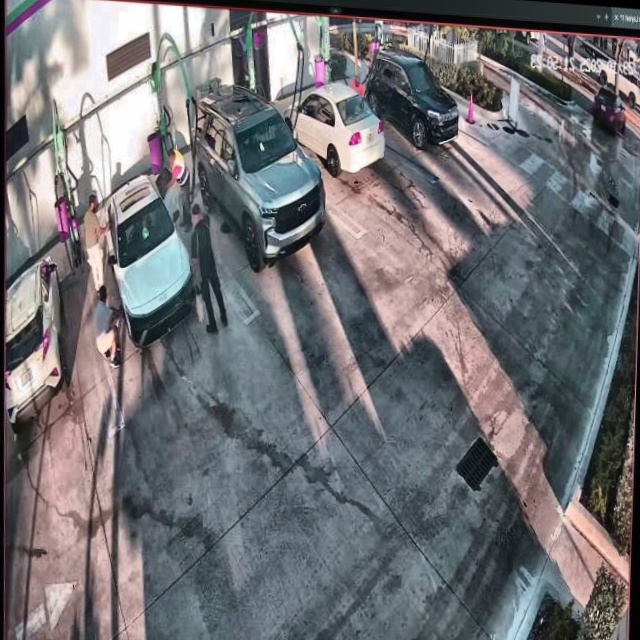Car: (186, 84, 330, 270), (97, 169, 202, 349), (280, 76, 386, 180)
